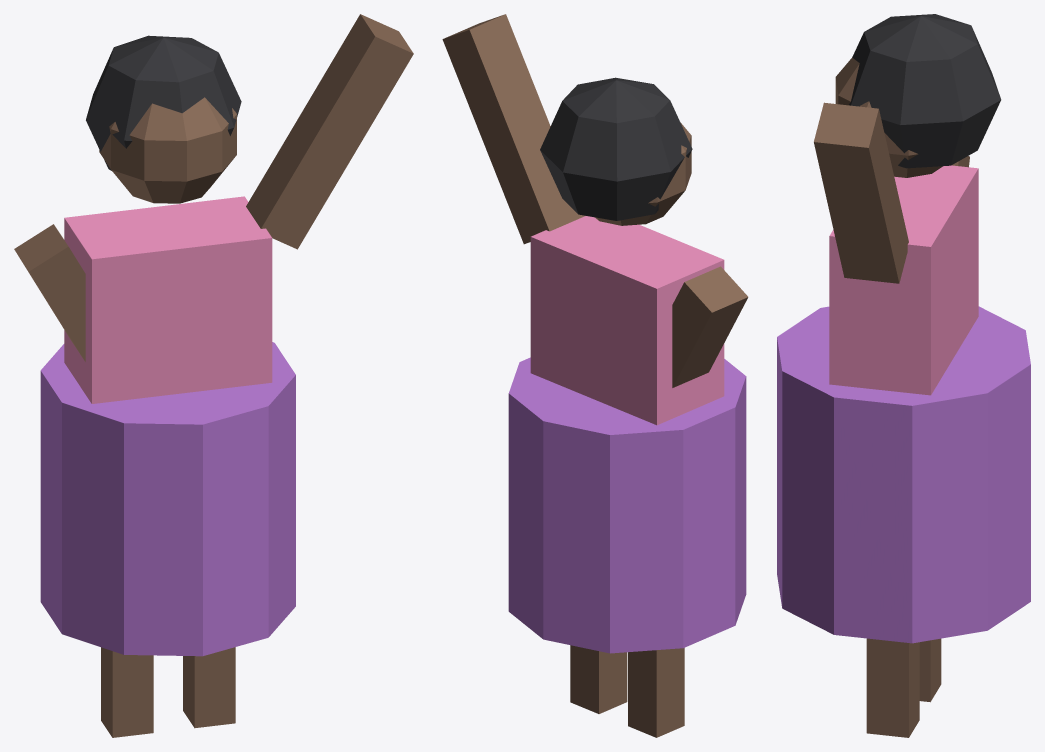
File: CH_DancingGirl.glb
3 views of the same model, side by side, from view 1: azimuth 30°, elevation 25°; view 2: azimuth 150°, elevation 25°; view 3: azimuth 270°, elevation 25° (orthographic). The views are drawn at different scales.
Visible parts, largest first — view 1: skirt, torso, armR, hair, head, armL, legL, legR; view 2: skirt, torso, hair, armR, armL, legL, legR, head; view 3: skirt, torso, hair, armR, legR, head, legL.
Part boxes in pixels (x1=…): skirt: x1=40, y1=342, x2=295, y2=656; torso: x1=64, y1=196, x2=272, y2=403; armR: x1=246, y1=14, x2=413, y2=249; hair: x1=86, y1=35, x2=241, y2=170; head: x1=99, y1=97, x2=236, y2=203; armL: x1=14, y1=224, x2=85, y2=361; legL: x1=101, y1=647, x2=153, y2=737; legR: x1=183, y1=647, x2=235, y2=728; skirt: x1=508, y1=357, x2=746, y2=653; torso: x1=530, y1=216, x2=724, y2=425; hair: x1=540, y1=77, x2=692, y2=220; armR: x1=442, y1=14, x2=585, y2=244; armL: x1=672, y1=266, x2=748, y2=387; legL: x1=628, y1=648, x2=684, y2=737; legR: x1=570, y1=645, x2=627, y2=713; head: x1=595, y1=122, x2=691, y2=225; skirt: x1=777, y1=306, x2=1030, y2=643; torso: x1=829, y1=165, x2=978, y2=395; hair: x1=849, y1=14, x2=1001, y2=168; armR: x1=814, y1=102, x2=908, y2=283; legR: x1=866, y1=638, x2=919, y2=737; head: x1=835, y1=57, x2=942, y2=177; legL: x1=919, y1=638, x2=941, y2=702.
Bounding box in the file's own units: 0.9414 × 1.75 × 0.5813.
